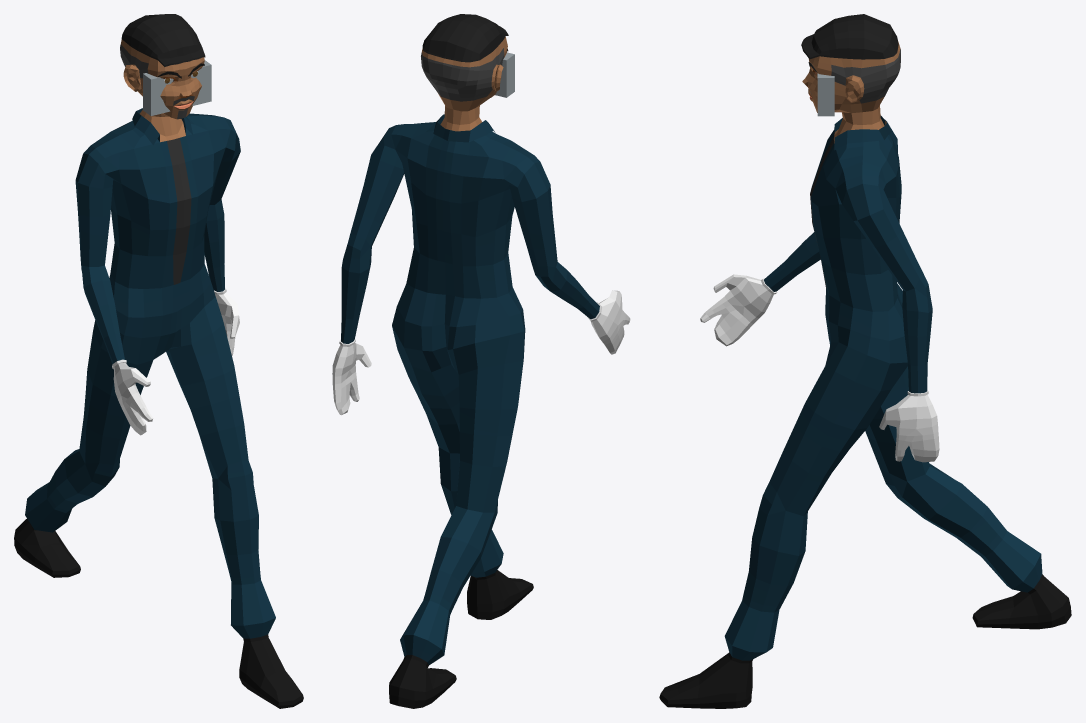
File: Mechanic_Walk_Mask.fbx
The picture shows the model from 3 angles, left to right: view 1: azimuth 30°, elevation 25°; view 2: azimuth 150°, elevation 25°; view 3: azimuth 270°, elevation 25°; orthographic projection. The views are drawn at different scales.
Parts seen in each view (by area): view 1: Mechanic_Walk_Mask; view 2: Mechanic_Walk_Mask; view 3: Mechanic_Walk_Mask.
Boxes of the visible parts, box(x1,y1,x2,y2) form: Mechanic_Walk_Mask: box(14, 14, 303, 708); Mechanic_Walk_Mask: box(332, 14, 630, 708); Mechanic_Walk_Mask: box(659, 14, 1071, 708).
Size of the model in its own units: 0.2997 by 0.9472 by 0.5337.
